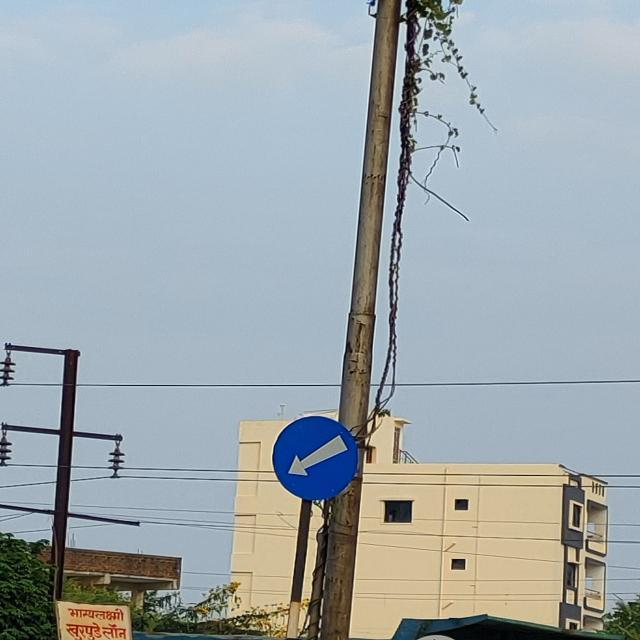compulsary keep left: (259, 410, 364, 504)
